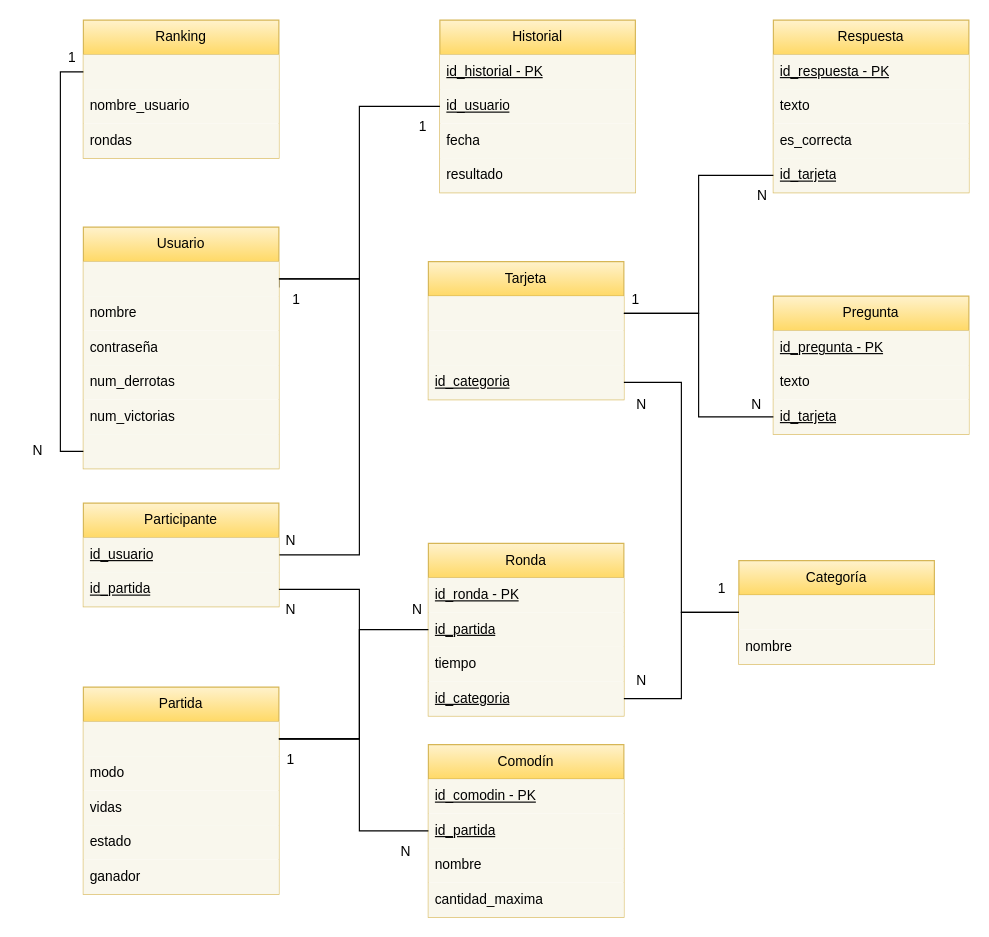
Image size: 989x937. Some labels were removed from this diagram. The centre of each missing label's shape, as x and y in pixels:
dificultad: point (525, 347)
id_categoria - PK: point (836, 612)
id_partida - PK: point (180, 738)
id_ranking: point (180, 451)
id_ranking - PK: point (180, 71)
id_tarjeta - PK: point (525, 313)
id_usuario - PK: point (180, 278)
